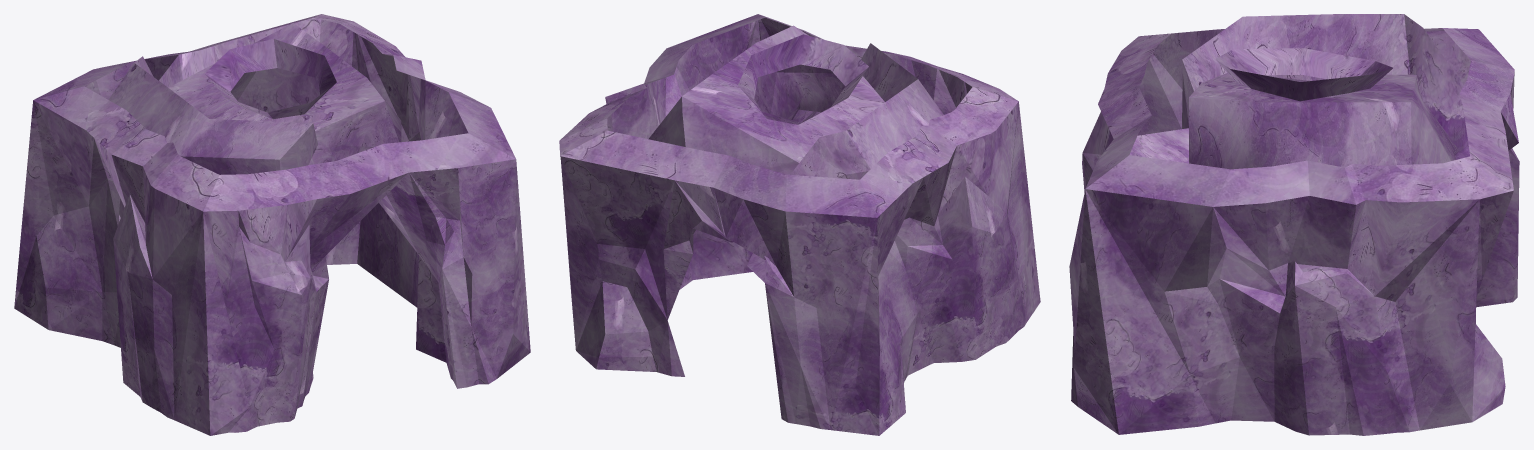
The model's file is Floating_Island_04_Art.fbx.
The picture shows the model from 3 angles, left to right: view 1: azimuth 30°, elevation 25°; view 2: azimuth 150°, elevation 25°; view 3: azimuth 270°, elevation 25°; orthographic projection. The views are drawn at different scales.
Parts seen in each view (by area): view 1: Floating_Island_4; view 2: Floating_Island_4; view 3: Floating_Island_4.
Boxes of the visible parts, bbox=[...] form: Floating_Island_4: bbox=[14, 14, 530, 435]; Floating_Island_4: bbox=[559, 14, 1040, 435]; Floating_Island_4: bbox=[1069, 14, 1519, 435].
Size of what is drawn, in the model's own units: 1533 by 1121 by 1574.
